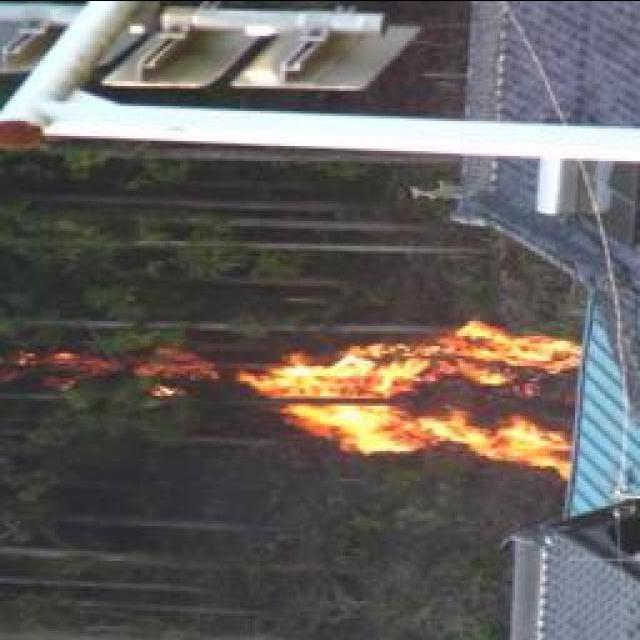Fire: (238, 314, 582, 472)
